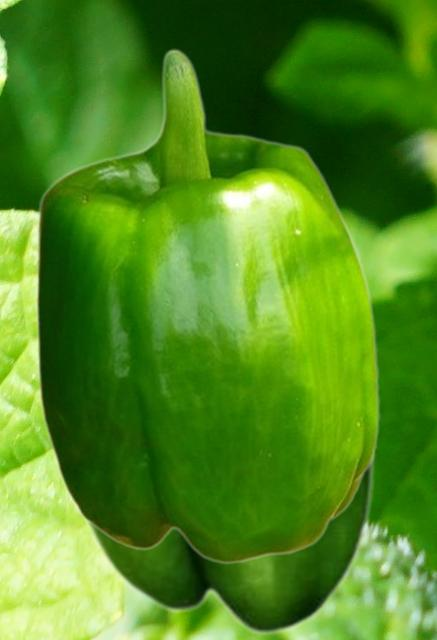bell_pepper: (34, 48, 379, 564), (75, 461, 375, 635)
